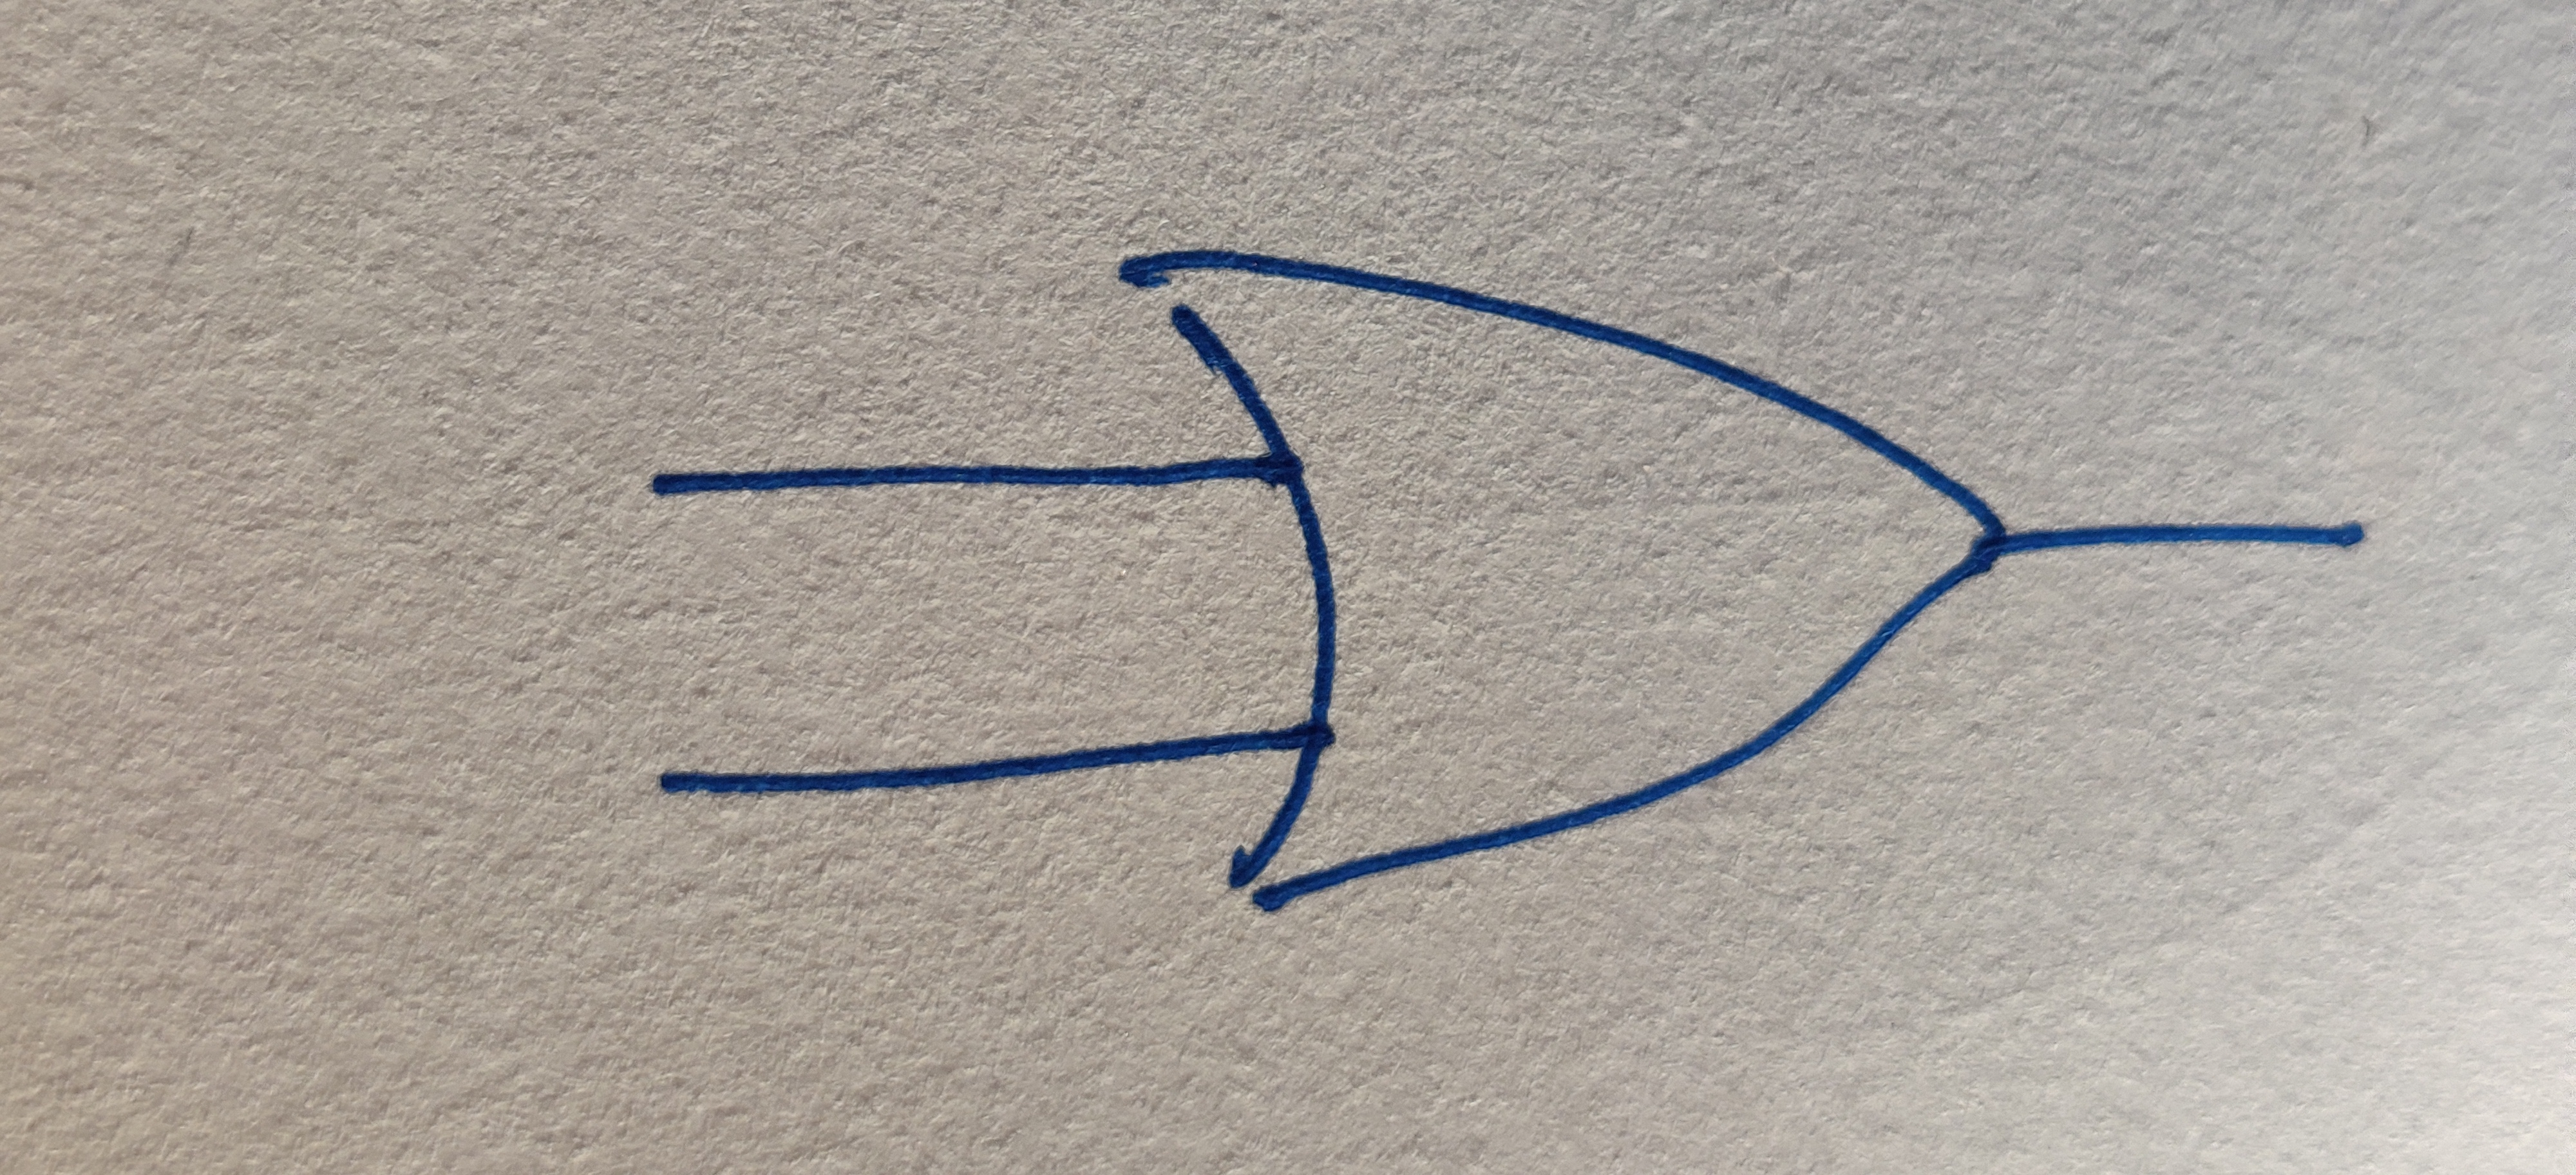or: (1115, 248, 2004, 914)
